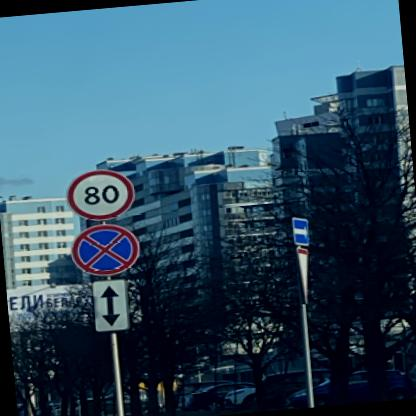speedlimit: (62, 166, 134, 223)
